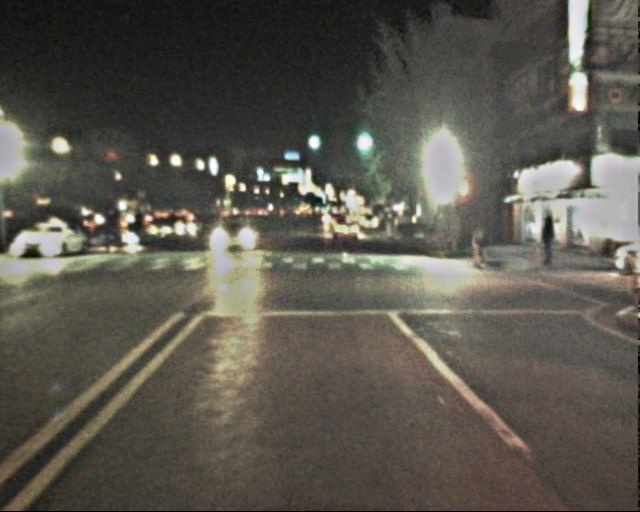person: (534, 209, 560, 272), (469, 223, 491, 270)
